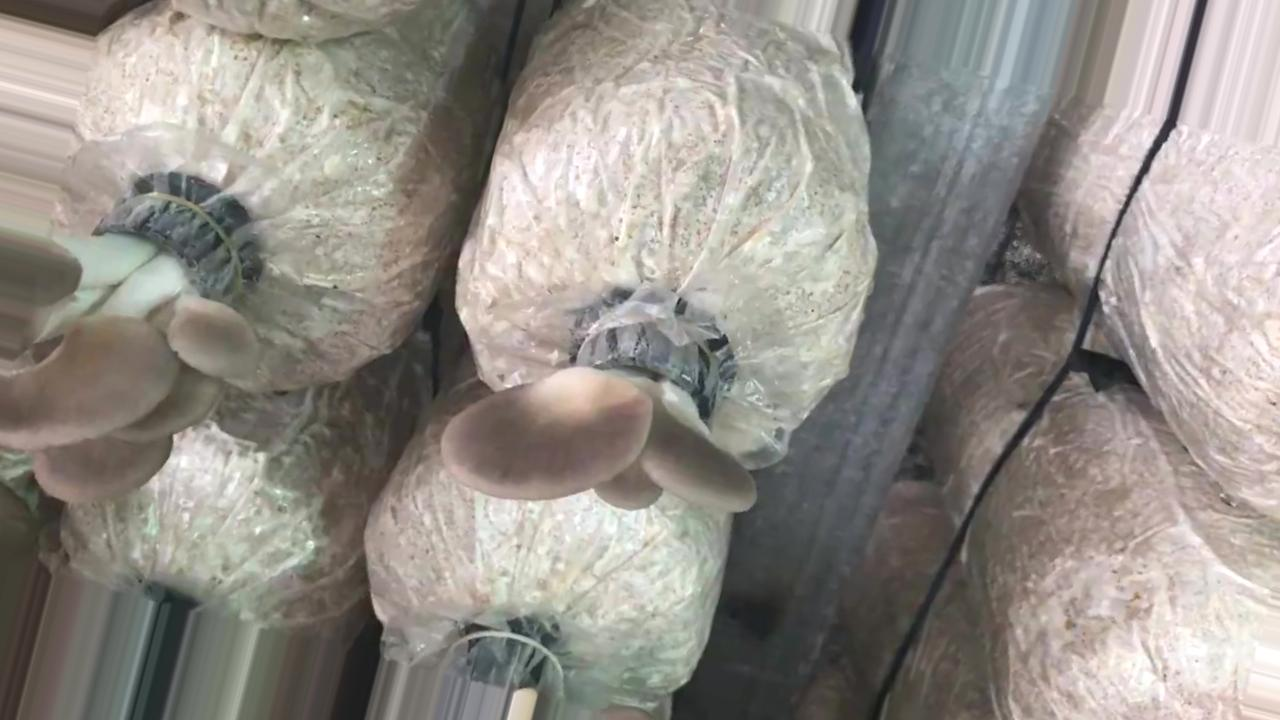nam: (1, 187, 259, 503), (446, 309, 760, 516)
